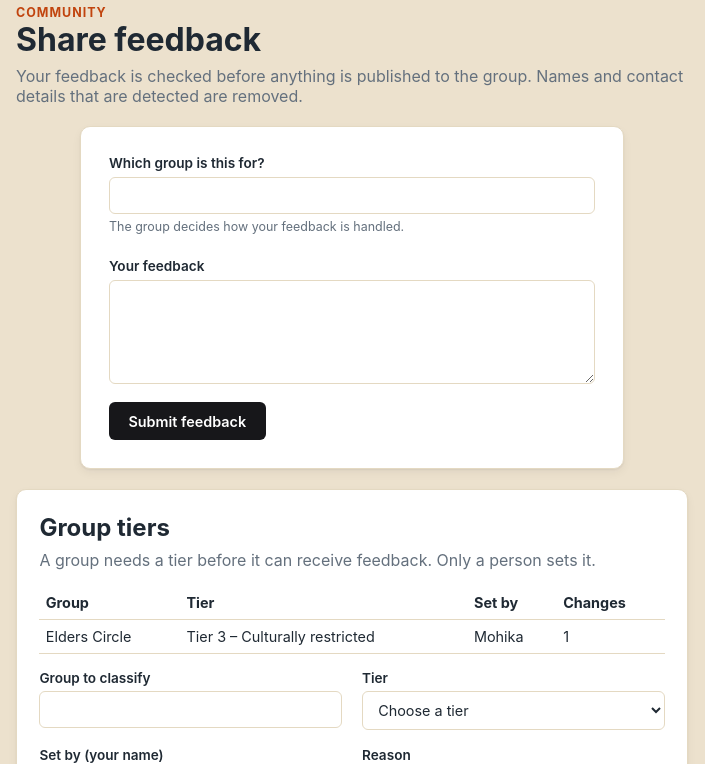
Test: CommunitySubmissionPage (Story 24) › shows a Tier 3 submission as held and not processed
This screenshot has width=705, height=764.
Type "Elders Circle" into the field labelled "Which group is this for?" at (352, 195), box top-left (109, 177), bottom-right (595, 214)
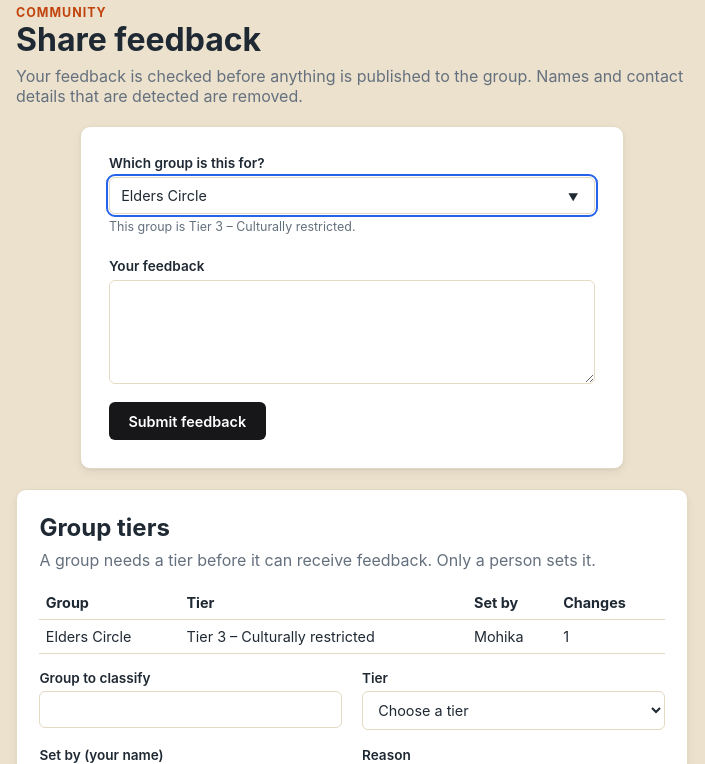
Type "This story should stay within the community." into the text box labelled "Your feedback" at (352, 332), box top-left (109, 280), bottom-right (595, 384)
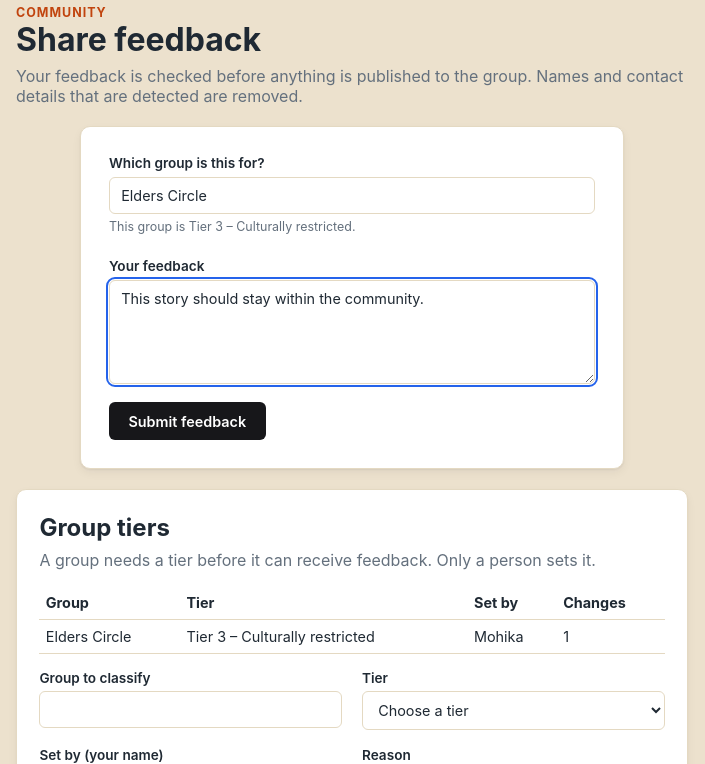
Click the button "Submit feedback" at (187, 421), box top-left (109, 402), bottom-right (266, 440)
(page scrolled)
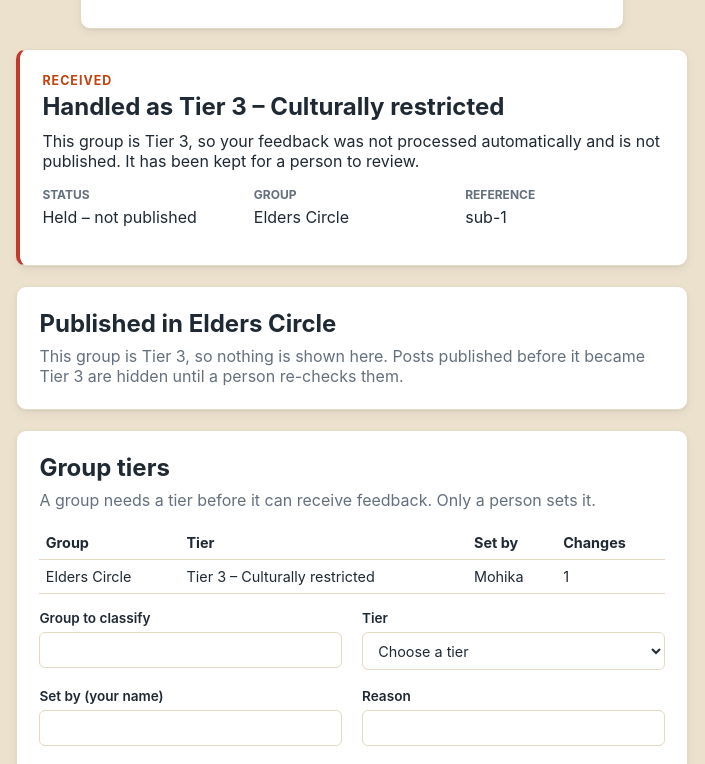
Result: the heading "Handled as Tier 3 – Culturally restricted" is shown at top-left (42, 92), bottom-right (504, 121)
Result: the text "Held – not published" is shown at top-left (42, 207), bottom-right (197, 227)
Result: the text "kept for a person to review" is shown at top-left (42, 131), bottom-right (660, 171)
